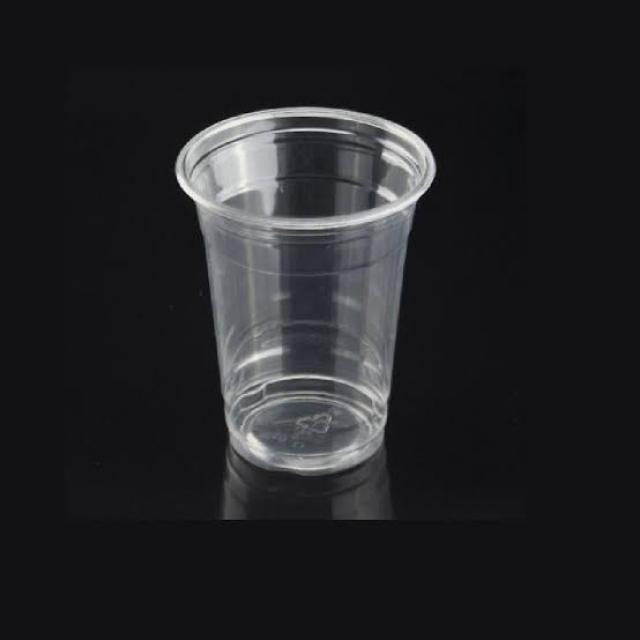plastic cup: (124, 89, 471, 480)
